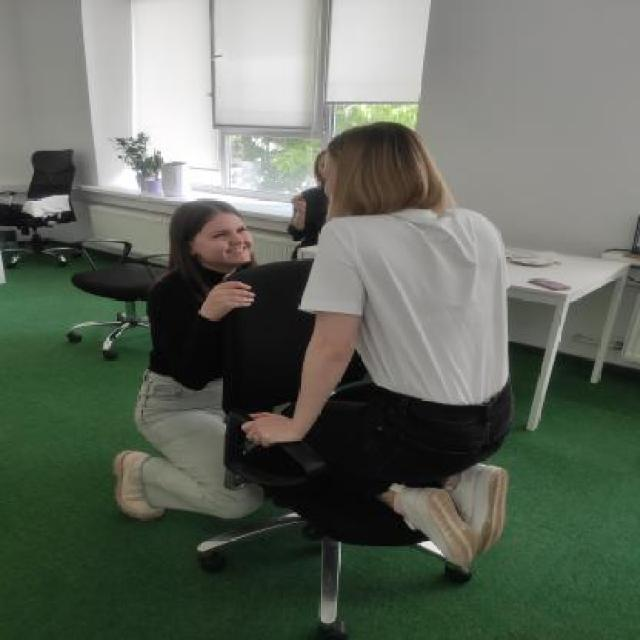chair: (200, 242, 486, 633)
